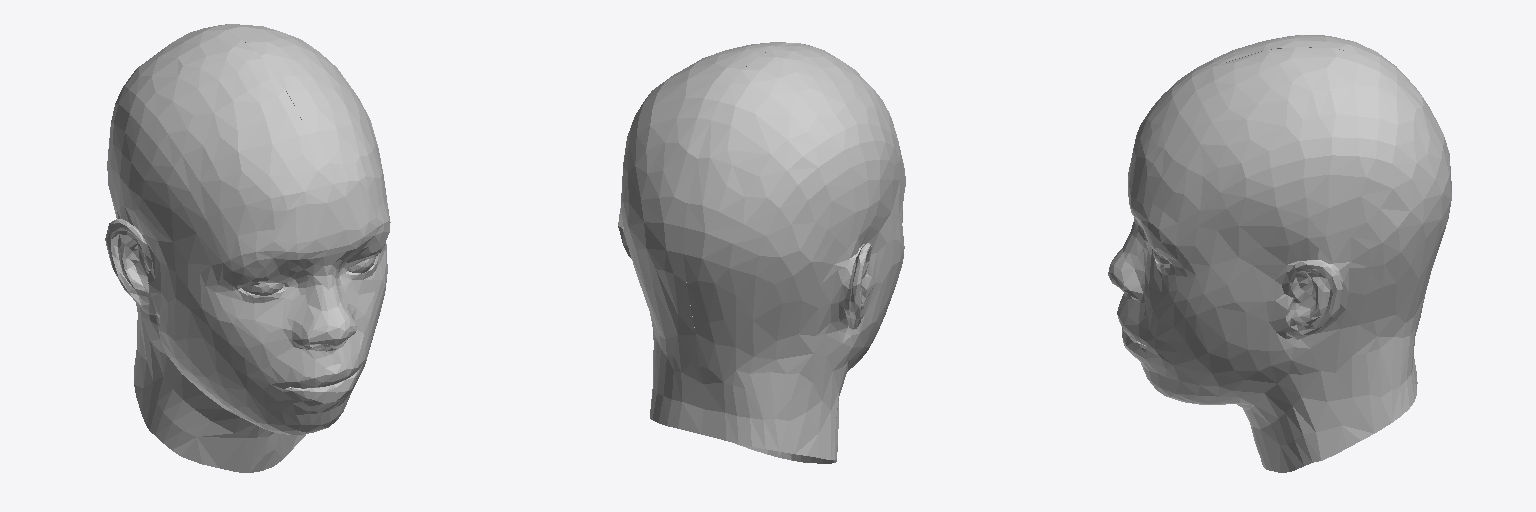
File: blink_000006.obj
3 views of the same model, side by side, from view 1: azimuth 30°, elevation 25°; view 2: azimuth 150°, elevation 25°; view 3: azimuth 270°, elevation 25° (orthographic).
Parts seen in each view (by area): view 1: model.002_model.004; view 2: model.002_model.004; view 3: model.002_model.004.
Boxes of the visible parts, x1=… form: model.002_model.004: x1=105, y1=24, x2=390, y2=472; model.002_model.004: x1=618, y1=42, x2=905, y2=463; model.002_model.004: x1=1108, y1=35, x2=1451, y2=472.
Bounding box in the file's own units: 0.4496 × 0.7369 × 0.5525.